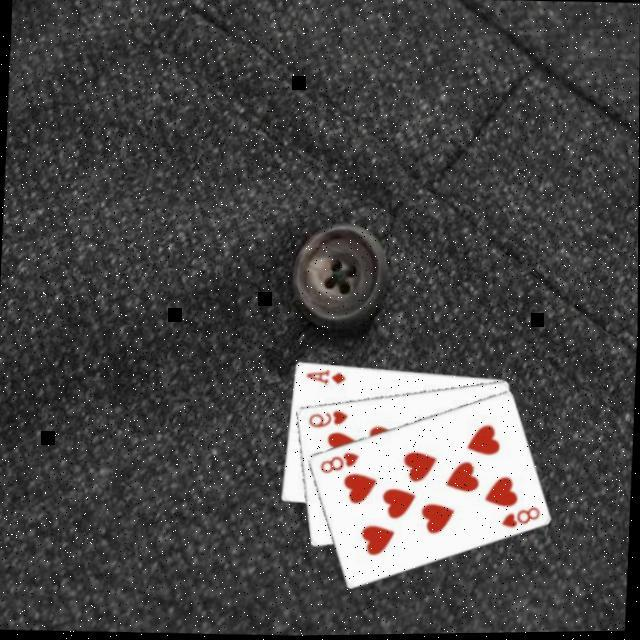8H: (499, 501, 544, 532), (318, 446, 363, 476)
9H: (306, 404, 352, 431)
AD: (304, 363, 350, 387)
